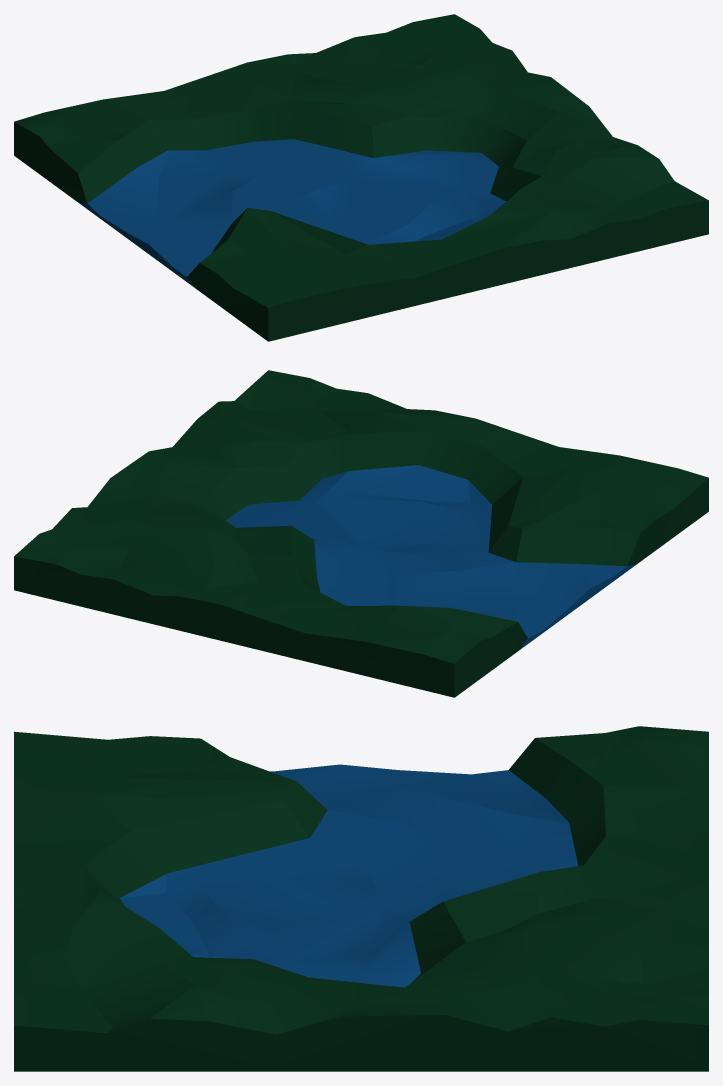
The model's file is Water_River_Ending_R.fbx.
The picture shows the model from 3 angles, top to bottom: view 1: azimuth 30°, elevation 25°; view 2: azimuth 150°, elevation 25°; view 3: azimuth 270°, elevation 25°; orthographic projection. The views are drawn at different scales.
Parts seen in each view (by area): view 1: Water_River_Ending_R; view 2: Water_River_Ending_R; view 3: Water_River_Ending_R.
Part boxes in pixels (x1,y1,x2,y2): Water_River_Ending_R: (14,14,708,341); Water_River_Ending_R: (14,370,708,697); Water_River_Ending_R: (14,726,708,1071).
Size of the model in its own units: 147 by 13.97 by 147.
